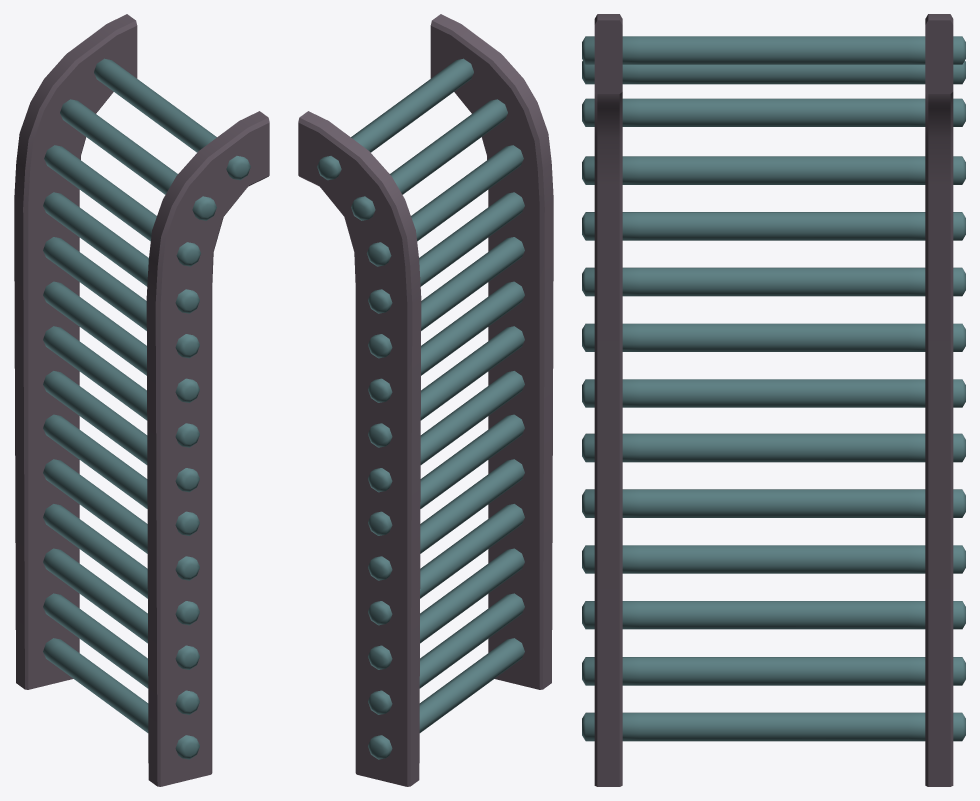
Rendered from GB_128_ladder_var02.glb.
The picture shows the model from 3 angles, left to right: view 1: azimuth 30°, elevation 25°; view 2: azimuth 150°, elevation 25°; view 3: azimuth 270°, elevation 25°; orthographic projection. The views are drawn at different scales.
Visible parts, largest first — view 1: LadderVar02; view 2: LadderVar02; view 3: LadderVar02.
Part boxes in pixels (bbox=[...]): LadderVar02: bbox=[14, 14, 269, 786]; LadderVar02: bbox=[298, 14, 553, 786]; LadderVar02: bbox=[582, 14, 965, 786].
Size of the model in its own units: 0.4723 by 2.57 by 1.11.
